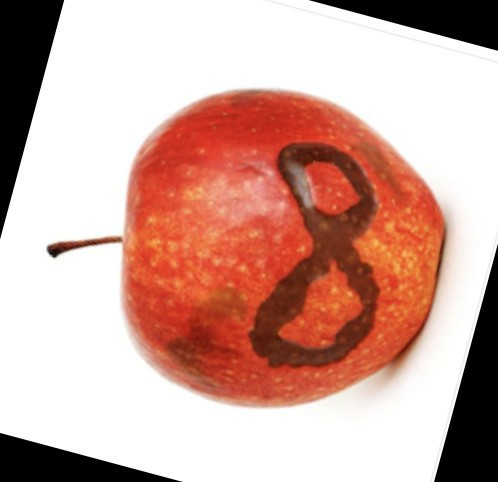rotten_apple: (119, 90, 447, 408)
